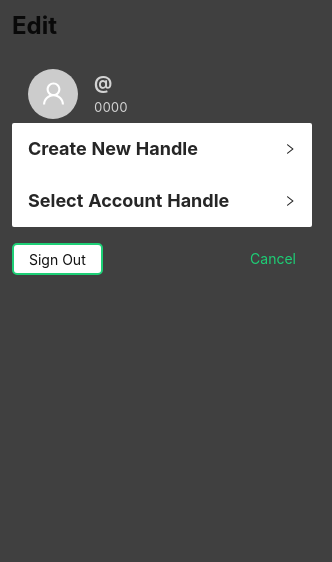
Test case: EditRegistration › when account has registrations › displays all registrations
Step 1. Click the button "Select Account Handle" → (162, 201), box top-left (28, 190), bottom-right (296, 211)
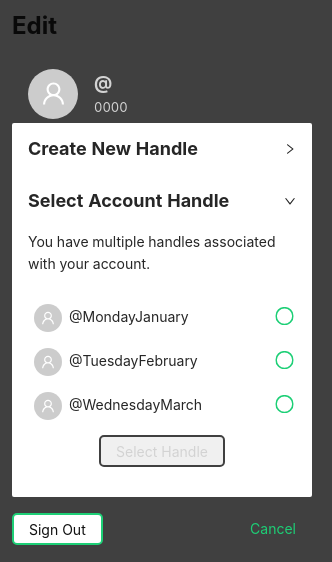
Check: the button with class "SelectHandle__registration" shows "MondayJanuary", box top-left (28, 303), bottom-right (296, 333)
Check: the button with class "SelectHandle__registration" shows "TuesdayFebruary", box top-left (28, 347), bottom-right (296, 377)
Check: the button with class "SelectHandle__registration" shows "WednesdayMarch", box top-left (28, 391), bottom-right (296, 421)
